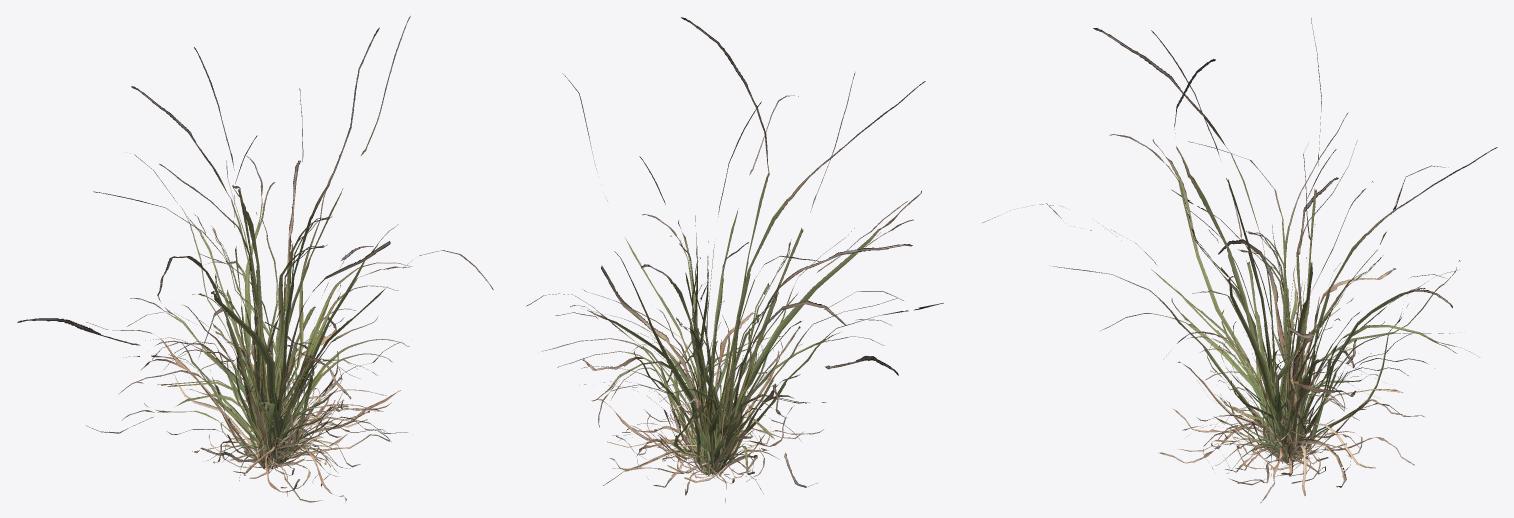
Rendered from ph-grass_medium_02-lod.glb.
3 views of the same model, side by side, from view 1: azimuth 30°, elevation 25°; view 2: azimuth 150°, elevation 25°; view 3: azimuth 270°, elevation 25° (orthographic). The views are drawn at different scales.
Parts seen in each view (by area): view 1: e, d, c, b, a; view 2: e, d, c, b, a; view 3: e, d, c, b, a.
Boxes of the visible parts, box(x1,y1,x2,y2) form: e: box(17, 16, 493, 488); d: box(118, 160, 412, 502); c: box(174, 212, 398, 482); b: box(223, 266, 400, 480); a: box(207, 292, 342, 476); e: box(526, 17, 925, 495); d: box(541, 228, 943, 502); c: box(557, 215, 897, 471); b: box(597, 301, 803, 485); a: box(622, 322, 758, 479); e: box(982, 18, 1497, 463); d: box(1050, 181, 1460, 485); c: box(1188, 211, 1479, 502); b: box(1177, 257, 1414, 495); a: box(1215, 282, 1346, 465).
Size of the model in its own units: 0.3556 by 0.4053 by 0.4332.
1 material, 1 textured.
